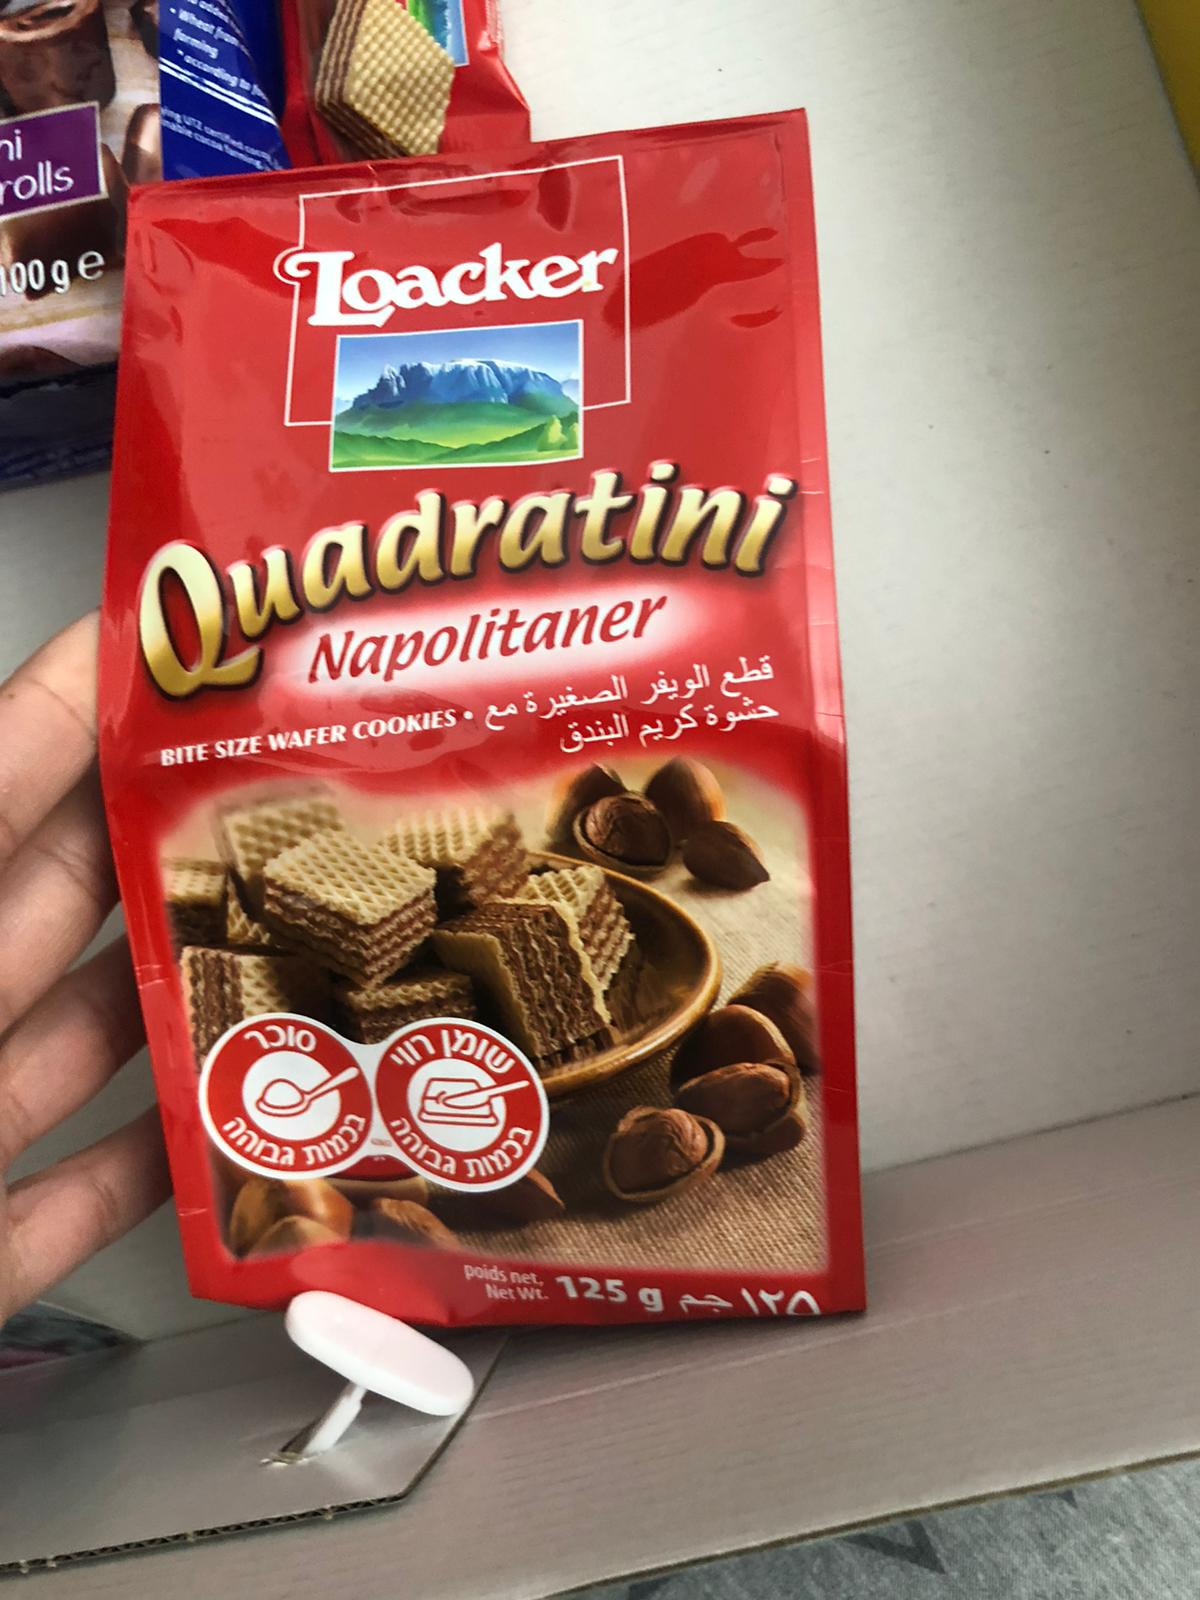fat: (371, 1015, 550, 1198)
sugar: (199, 1010, 377, 1180)
